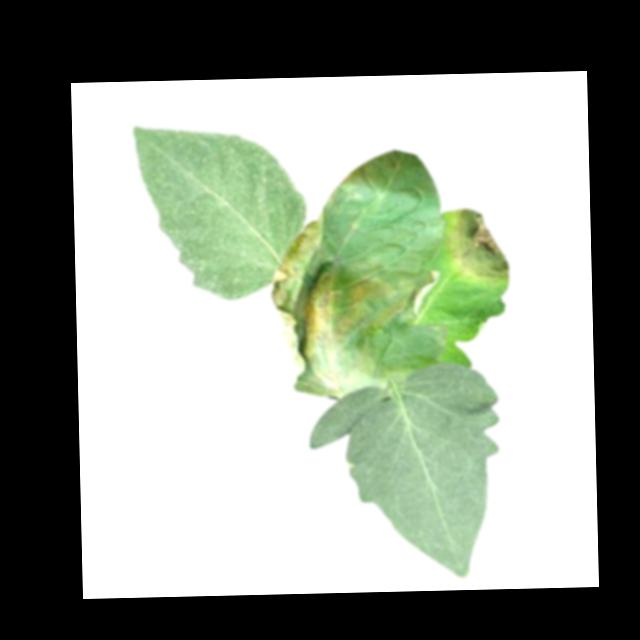Late_blight: (269, 209, 361, 400), (441, 206, 512, 286), (409, 268, 440, 321)
healthy: (309, 362, 506, 582), (132, 121, 310, 300)
